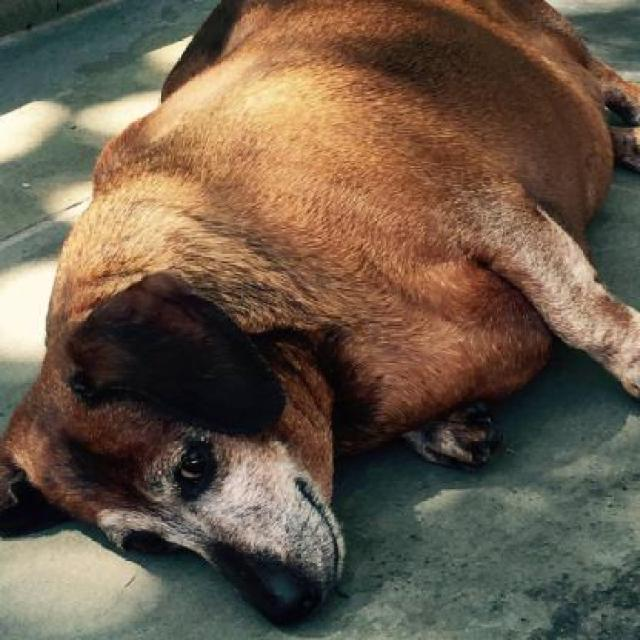Dog: (0, 3, 638, 634)
